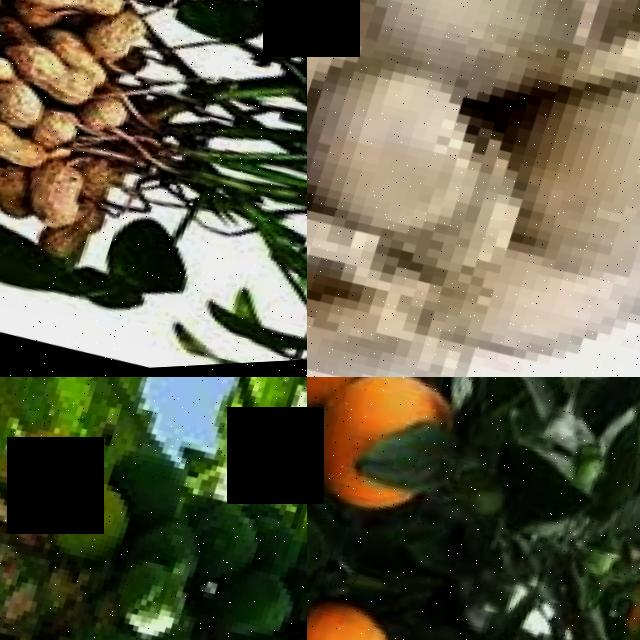orange: (307, 377, 454, 530), (307, 585, 412, 640)
pawpaw: (37, 473, 140, 578), (0, 418, 90, 522), (104, 553, 201, 640), (189, 504, 270, 596), (208, 565, 304, 640)
peanuts: (0, 36, 86, 103), (20, 158, 93, 236), (88, 9, 154, 69), (0, 0, 130, 30), (0, 77, 50, 133), (0, 123, 53, 173)
